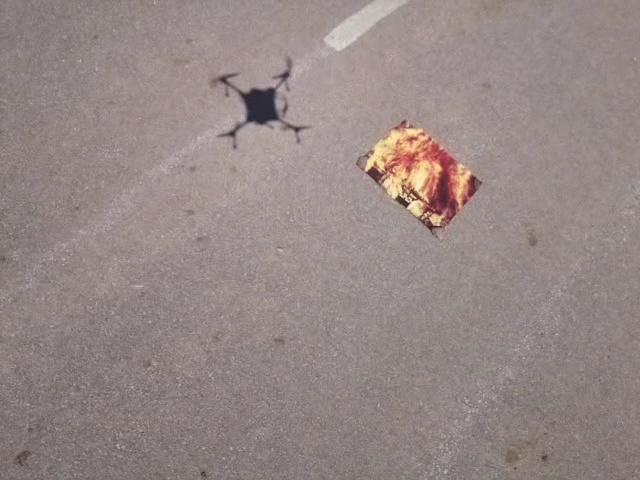fire-poster: (354, 117, 483, 241)
